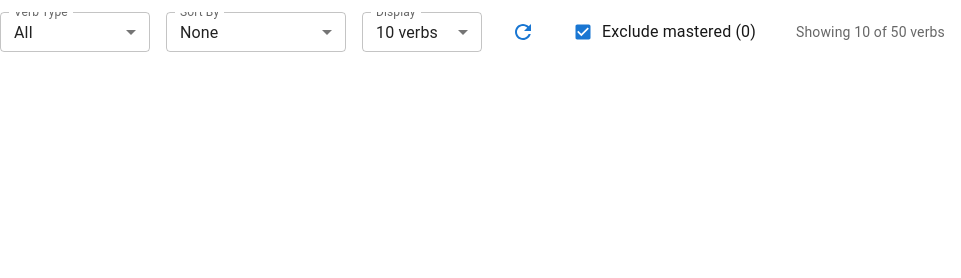
FilterControls › Select Options Availability › shows all sort options when sort select is opened
Click the dropdown named "Sort By" at (199, 32), box [180,22,218,42]
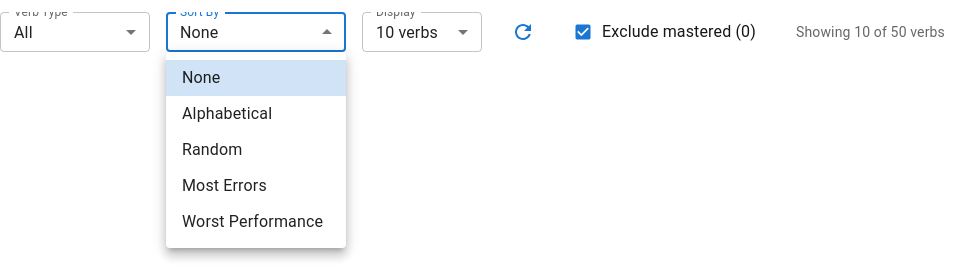
Check: the option "None" is shown, box [166,60,346,96]
Check: the option "Alphabetical" is shown, box [182,104,272,123]
Check: the option "Random" is shown, box [182,140,242,159]
